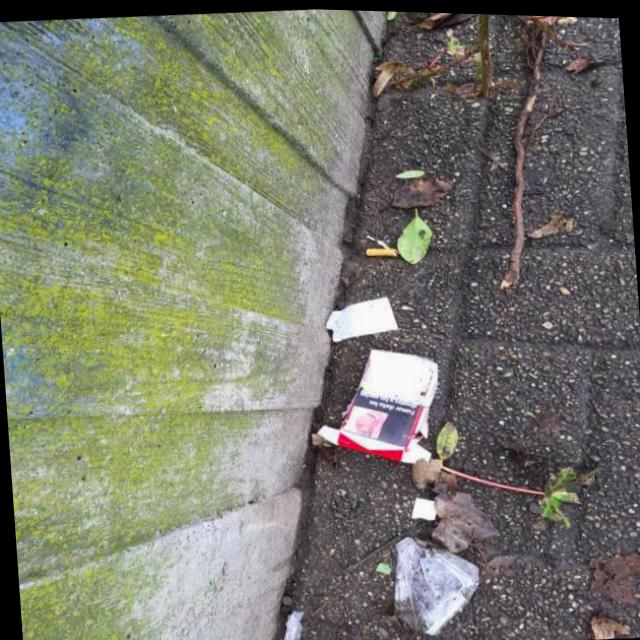Paper: (310, 339, 444, 468), (386, 527, 484, 636), (321, 290, 400, 343)
